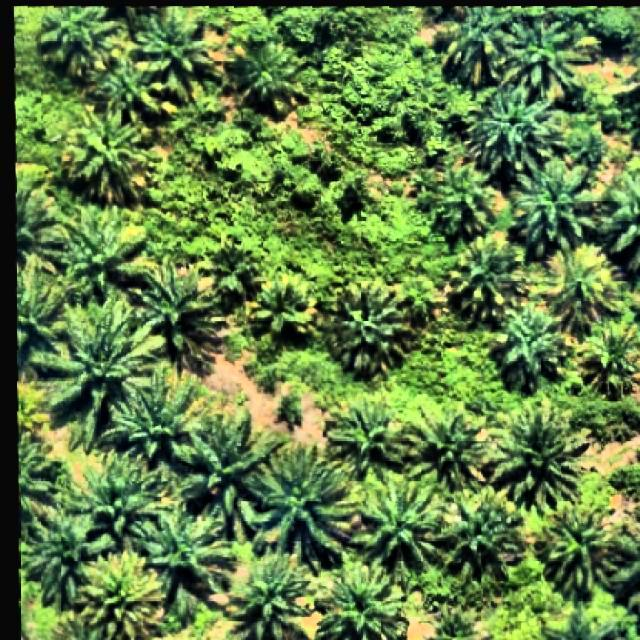Kelapa_Sawit: (32, 294, 168, 456), (249, 437, 362, 577), (178, 403, 286, 542), (126, 251, 228, 374), (135, 498, 240, 614), (488, 402, 592, 518), (98, 364, 212, 462), (462, 83, 566, 189), (56, 208, 156, 309), (321, 276, 416, 378), (507, 156, 596, 262), (60, 108, 154, 208), (74, 458, 178, 548), (498, 12, 602, 102), (62, 550, 176, 632), (312, 549, 414, 640), (130, 7, 224, 104), (540, 242, 629, 344), (18, 502, 94, 620), (354, 477, 446, 574), (535, 504, 620, 608), (443, 233, 528, 330), (320, 391, 414, 478), (224, 546, 310, 639), (408, 399, 490, 496), (493, 300, 570, 397), (90, 48, 176, 134), (226, 37, 312, 123), (34, 6, 123, 86), (444, 496, 524, 584), (436, 3, 518, 85), (200, 232, 269, 312), (247, 273, 321, 341)
